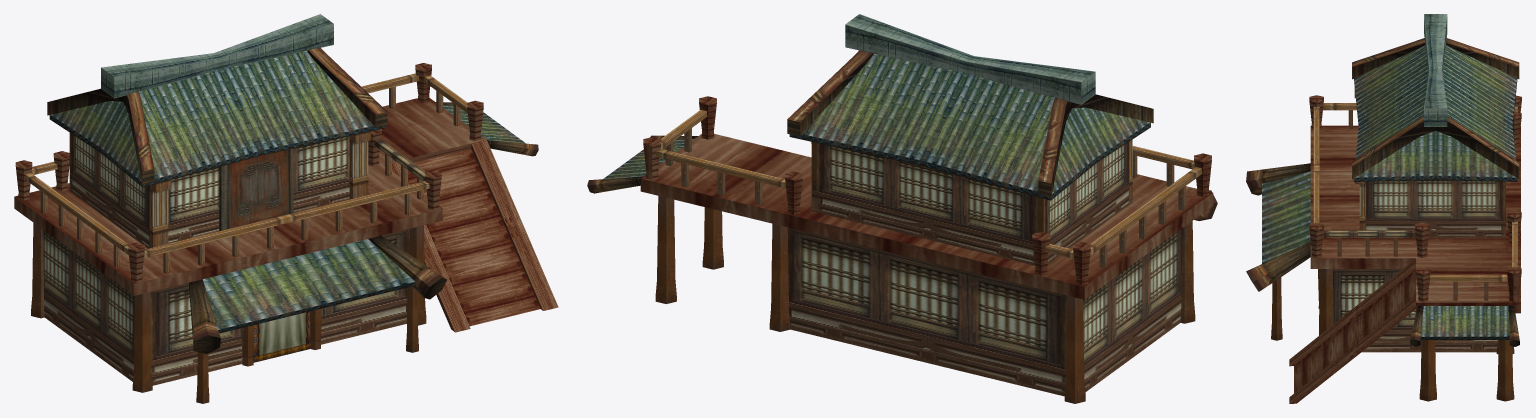
Rendered from a_fangzi_004.fbx.
The picture shows the model from 3 angles, left to right: view 1: azimuth 30°, elevation 25°; view 2: azimuth 150°, elevation 25°; view 3: azimuth 270°, elevation 25°; orthographic projection. The views are drawn at different scales.
Parts seen in each view (by area): view 1: polySurface172, polySurface101, polySurface102, polySurface162, polySurface103, polySurface179, polySurface169, polySurface163, polySurface106, polySurface171, polySurface153, polySurface177 (+21 smaller); view 2: polySurface102, polySurface173, polySurface162, polySurface101, polySurface169, polySurface171, polySurface176, polySurface170, polySurface159, polySurface160, polySurface177, polySurface158 (+8 smaller); view 3: polySurface101, polySurface162, polySurface173, polySurface172, polySurface102, polySurface179, polySurface103, polySurface181, polySurface170, polySurface175, polySurface174, polySurface169 (+22 smaller).
Boxes of the visible parts, left/top/right/bottom form: polySurface172: left=139, top=51, right=385, bottom=187; polySurface101: left=14, top=98, right=486, bottom=295; polySurface102: left=43, top=229, right=409, bottom=385; polySurface162: left=69, top=133, right=349, bottom=248; polySurface103: left=408, top=149, right=540, bottom=326; polySurface179: left=203, top=239, right=415, bottom=333; polySurface169: left=101, top=14, right=333, bottom=98; polySurface163: left=219, top=148, right=293, bottom=231; polySurface106: left=471, top=139, right=558, bottom=310; polySurface171: left=47, top=88, right=154, bottom=184; polySurface153: left=253, top=311, right=310, bottom=362; polySurface177: left=49, top=101, right=123, bottom=151; polySurface102: left=787, top=227, right=1181, bottom=396; polySurface173: left=789, top=53, right=1054, bottom=200; polySurface162: left=811, top=142, right=1129, bottom=265; polySurface101: left=640, top=133, right=1213, bottom=299; polySurface169: left=845, top=14, right=1095, bottom=104; polySurface171: left=1038, top=94, right=1153, bottom=197; polySurface176: left=1071, top=107, right=1150, bottom=162; polySurface170: left=787, top=50, right=873, bottom=136; polySurface159: left=1064, top=295, right=1085, bottom=403; polySurface160: left=655, top=196, right=676, bottom=303; polySurface177: left=1051, top=110, right=1096, bottom=199; polySurface158: left=769, top=223, right=790, bottom=331; polySurface101: left=1310, top=125, right=1520, bottom=313; polySurface162: left=1365, top=180, right=1505, bottom=238; polySurface173: left=1442, top=45, right=1517, bottom=159; polySurface172: left=1354, top=45, right=1428, bottom=159; polySurface102: left=1333, top=269, right=1497, bottom=352; polySurface179: left=1262, top=171, right=1310, bottom=263; polySurface103: left=1294, top=270, right=1415, bottom=393; polySurface181: left=1420, top=306, right=1509, bottom=339; polySurface170: left=1352, top=116, right=1519, bottom=179; polySurface175: left=1435, top=131, right=1517, bottom=181; polySurface174: left=1353, top=131, right=1435, bottom=181; polySurface169: left=1424, top=14, right=1447, bottom=126.
Bounding box in the file's own units: 11.93 × 6.45 × 6.95.
